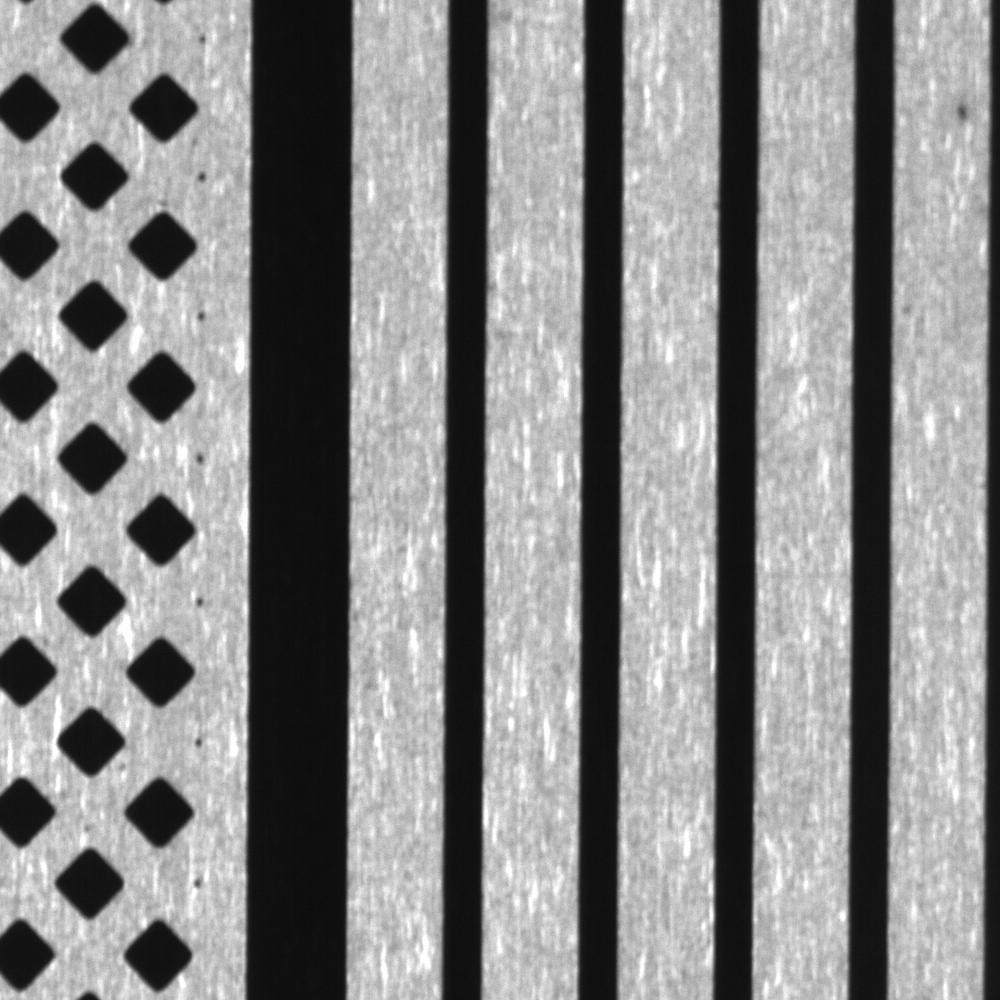Pinhole: (938, 84, 990, 139)
